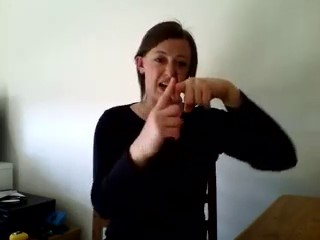K: (139, 71, 223, 155)
